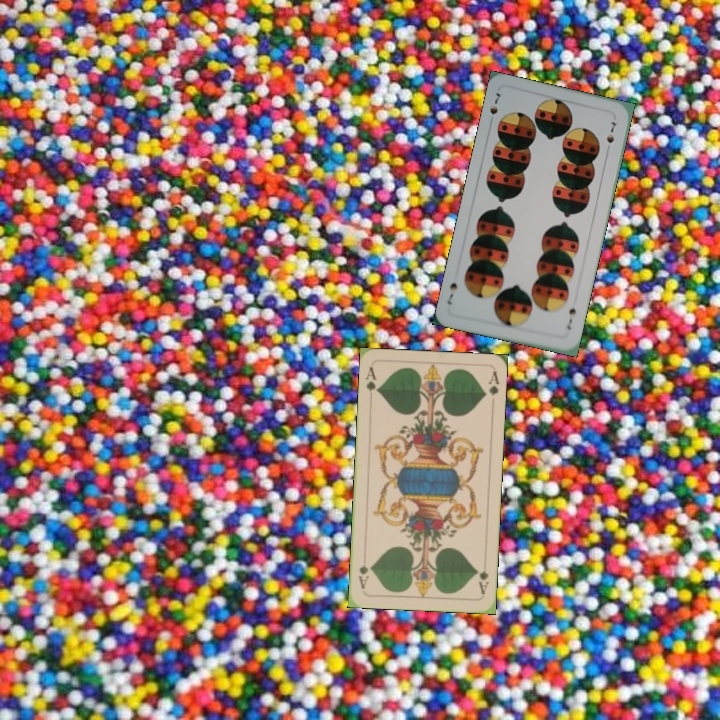GA: (473, 557, 491, 597), (361, 363, 381, 394)
S7: (486, 88, 504, 127), (563, 304, 579, 332)
